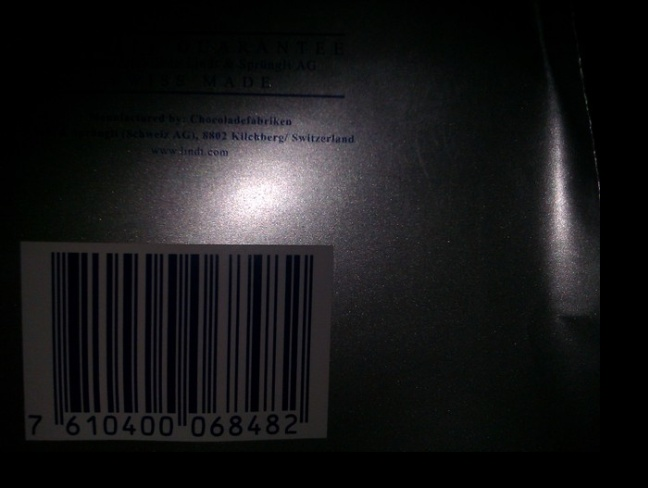Barkod: (18, 240, 335, 441)
